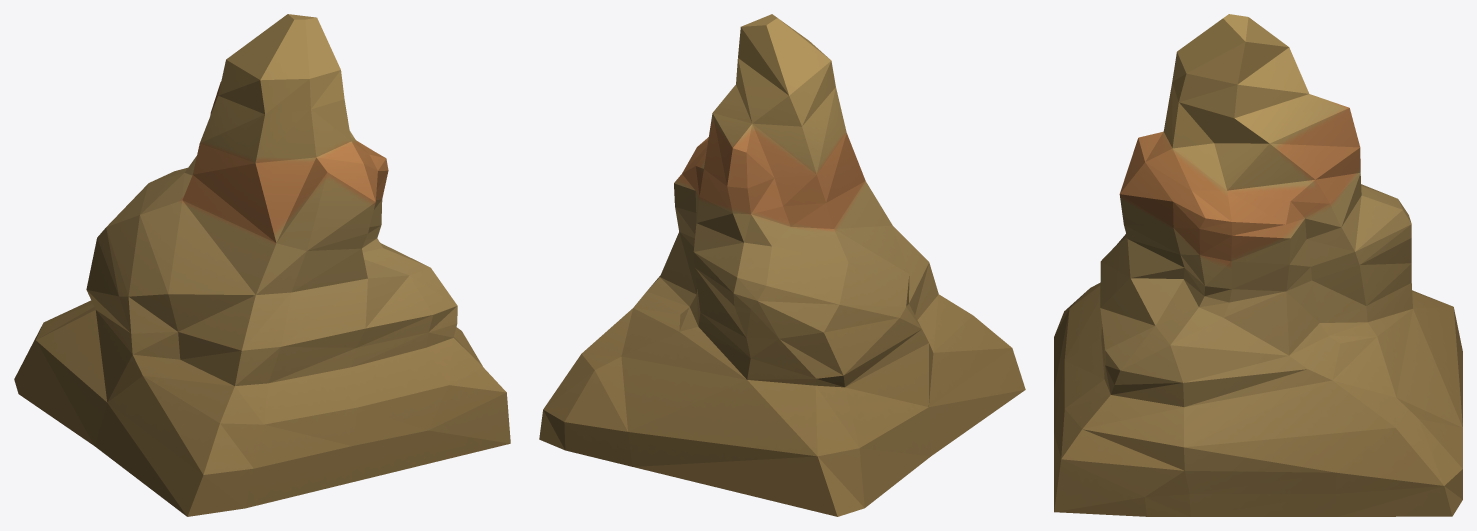
Rendered from Rock 4.fbx.
3 views of the same model, side by side, from view 1: azimuth 30°, elevation 25°; view 2: azimuth 150°, elevation 25°; view 3: azimuth 270°, elevation 25° (orthographic). The views are drawn at different scales.
Parts seen in each view (by area): view 1: Canyon_Rock2; view 2: Canyon_Rock2; view 3: Canyon_Rock2.
Part boxes in pixels (x1,y1,x2,y2): Canyon_Rock2: (14, 14, 510, 516); Canyon_Rock2: (539, 14, 1025, 516); Canyon_Rock2: (1054, 14, 1462, 516).
Bounding box in the file's own units: 50.21 × 57.68 × 50.
Materials: 1 (1 with a texture image).
